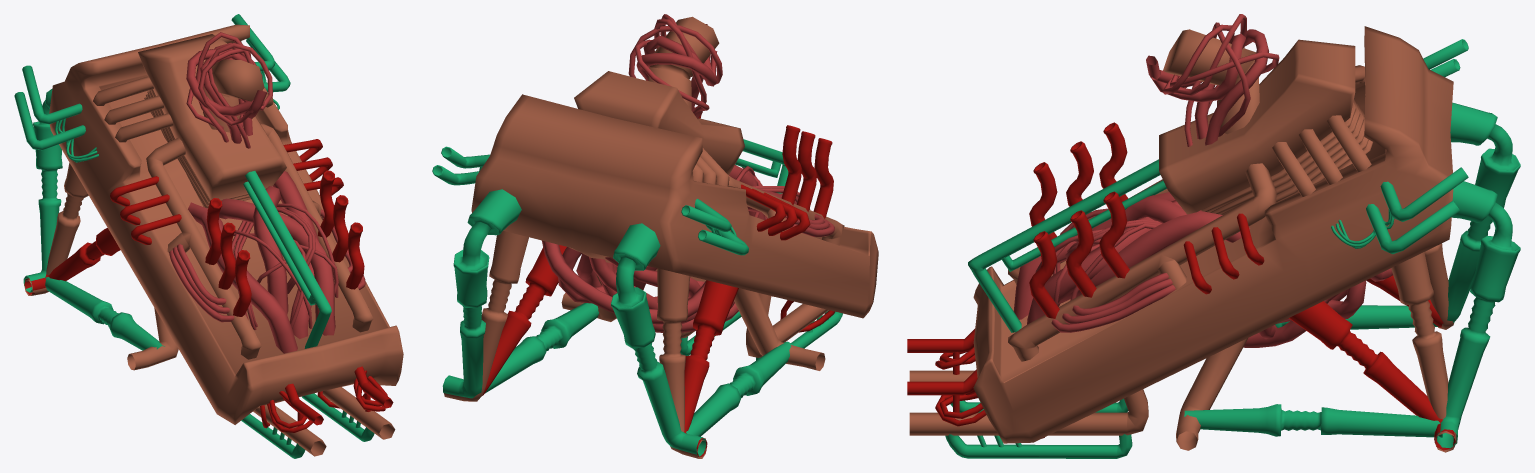
The model's file is chassis-lvl3.obj.
3 renders of one model, left to right at view 1: azimuth 30°, elevation 25°; view 2: azimuth 150°, elevation 25°; view 3: azimuth 270°, elevation 25°, orthographic. The views are drawn at different scales.
Visible parts, largest first — view 1: Chassis-Lvl1-Base_Chassis-Lvl1_Cube.001, Cylinder.016_Cylinder.000, Chassis-Lvl3-Addons_Chassis-Lvl1_Cube.003, Chassis-Lvl2-Addons_Chassis-Lvl1_Cube.006; view 2: Chassis-Lvl1-Base_Chassis-Lvl1_Cube.001, Chassis-Lvl3-Addons_Chassis-Lvl1_Cube.003, Chassis-Lvl2-Addons_Chassis-Lvl1_Cube.006, Cylinder.016_Cylinder.000; view 3: Chassis-Lvl1-Base_Chassis-Lvl1_Cube.001, Chassis-Lvl3-Addons_Chassis-Lvl1_Cube.003, Cylinder.016_Cylinder.000, Chassis-Lvl2-Addons_Chassis-Lvl1_Cube.006.
Part boxes in pixels (left/top/right/bottom): Chassis-Lvl1-Base_Chassis-Lvl1_Cube.001: left=24, top=24, right=403, bottom=456; Cylinder.016_Cylinder.000: left=169, top=32, right=365, bottom=353; Chassis-Lvl3-Addons_Chassis-Lvl1_Cube.003: left=14, top=14, right=374, bottom=458; Chassis-Lvl2-Addons_Chassis-Lvl1_Cube.006: left=24, top=139, right=393, bottom=432; Chassis-Lvl1-Base_Chassis-Lvl1_Cube.001: left=444, top=16, right=878, bottom=458; Chassis-Lvl3-Addons_Chassis-Lvl1_Cube.003: left=432, top=139, right=842, bottom=456; Chassis-Lvl2-Addons_Chassis-Lvl1_Cube.006: left=482, top=107, right=834, bottom=457; Cylinder.016_Cylinder.000: left=541, top=14, right=834, bottom=332; Chassis-Lvl1-Base_Chassis-Lvl1_Cube.001: left=909, top=26, right=1456, bottom=452; Chassis-Lvl3-Addons_Chassis-Lvl1_Cube.003: left=945, top=39, right=1520, bottom=458; Cylinder.016_Cylinder.000: left=1013, top=14, right=1392, bottom=347; Chassis-Lvl2-Addons_Chassis-Lvl1_Cube.006: left=907, top=122, right=1455, bottom=450.
Bounding box in the file's own units: 4.05 × 5.03 × 6.62.
